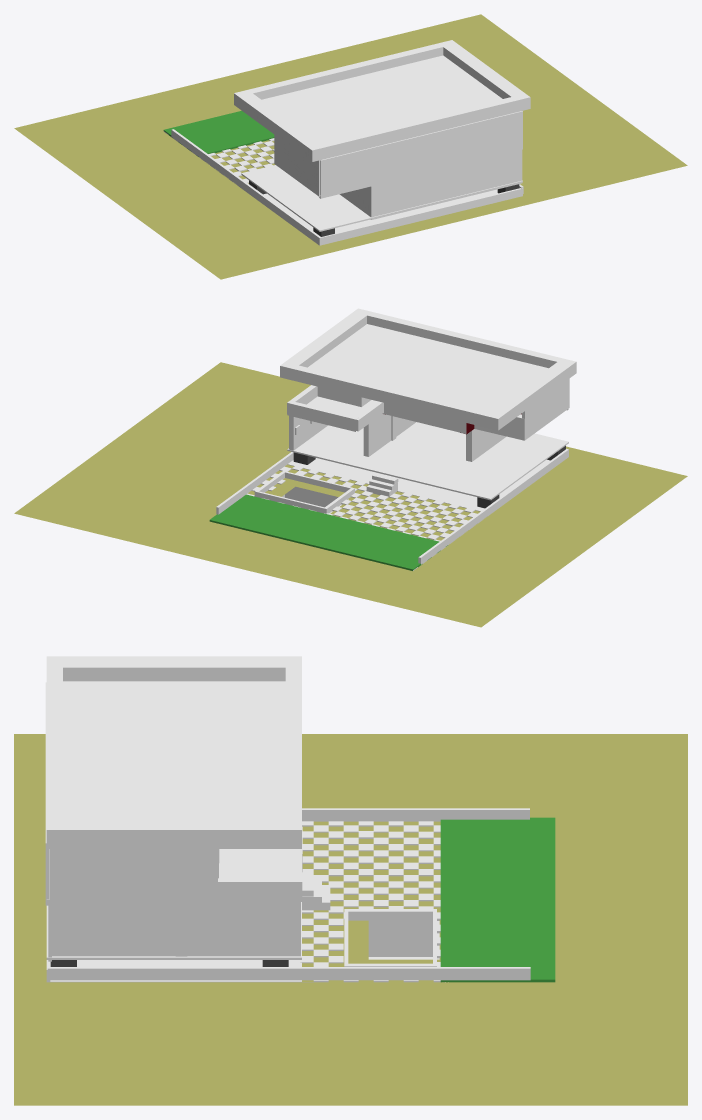
Rendered from HouseModel.glb.
3 renders of one model, top to bottom at view 1: azimuth 30°, elevation 25°; view 2: azimuth 150°, elevation 25°; view 3: azimuth 270°, elevation 25°, orthographic. The views are drawn at different scales.
Parts seen in each view (by area): view 1: Cube; view 2: Cube; view 3: Cube.
Part boxes in pixels (x1=…): Cube: x1=14, y1=14, x2=687, y2=279; Cube: x1=14, y1=308, x2=687, y2=627; Cube: x1=14, y1=656, x2=687, y2=1105.
Bounding box in the file's own units: 180 × 51.64 × 138.
